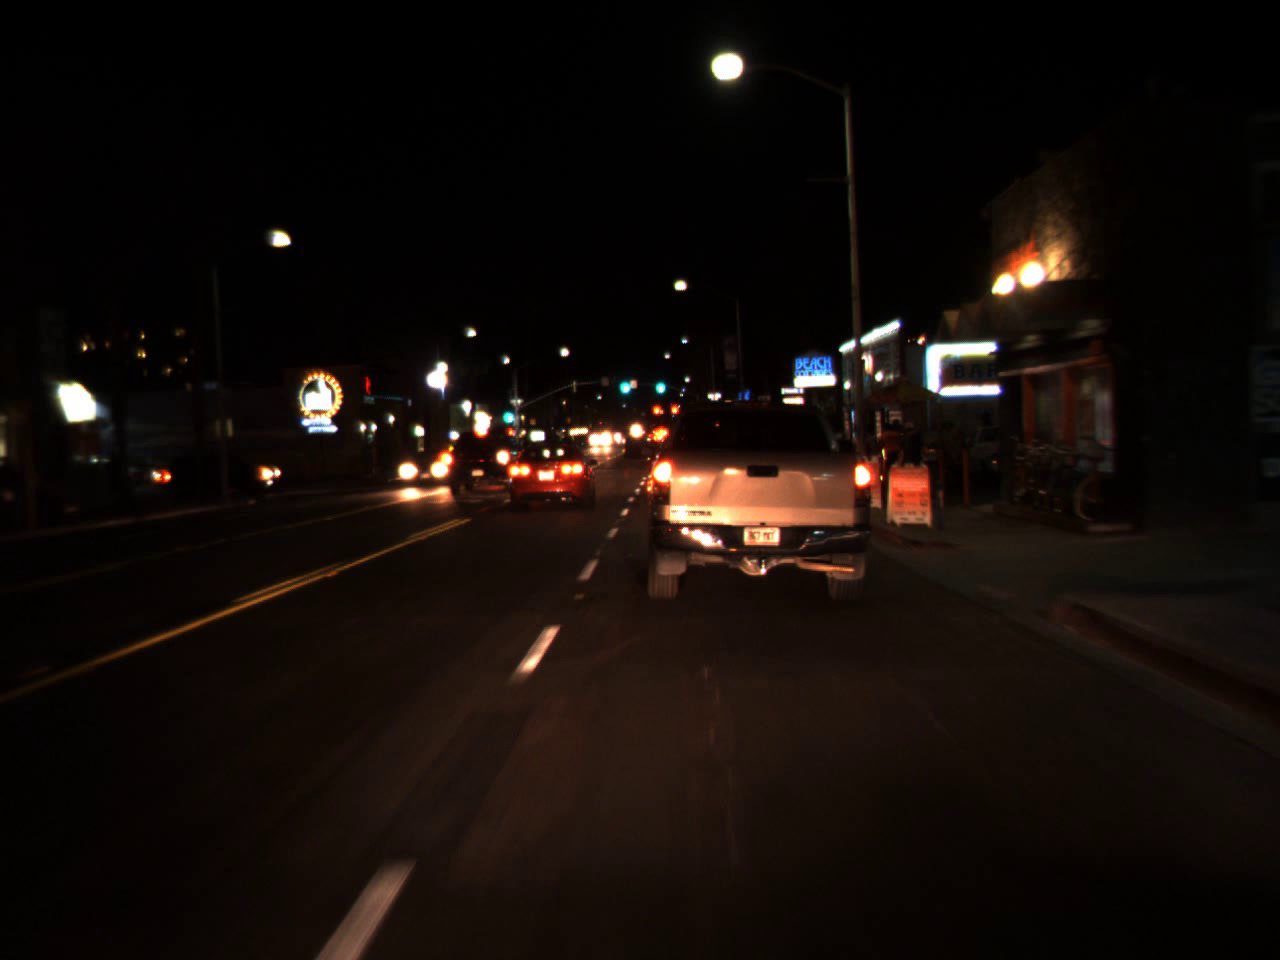go: (615, 368, 633, 398), (651, 370, 667, 397), (500, 399, 514, 426)
